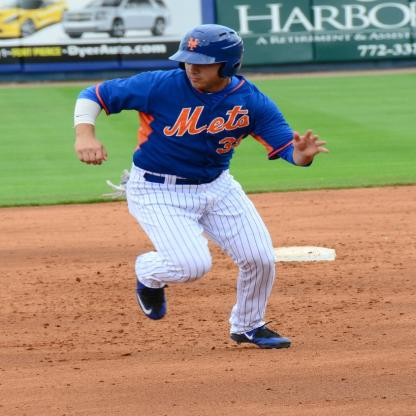Helmet: (170, 23, 244, 81)
